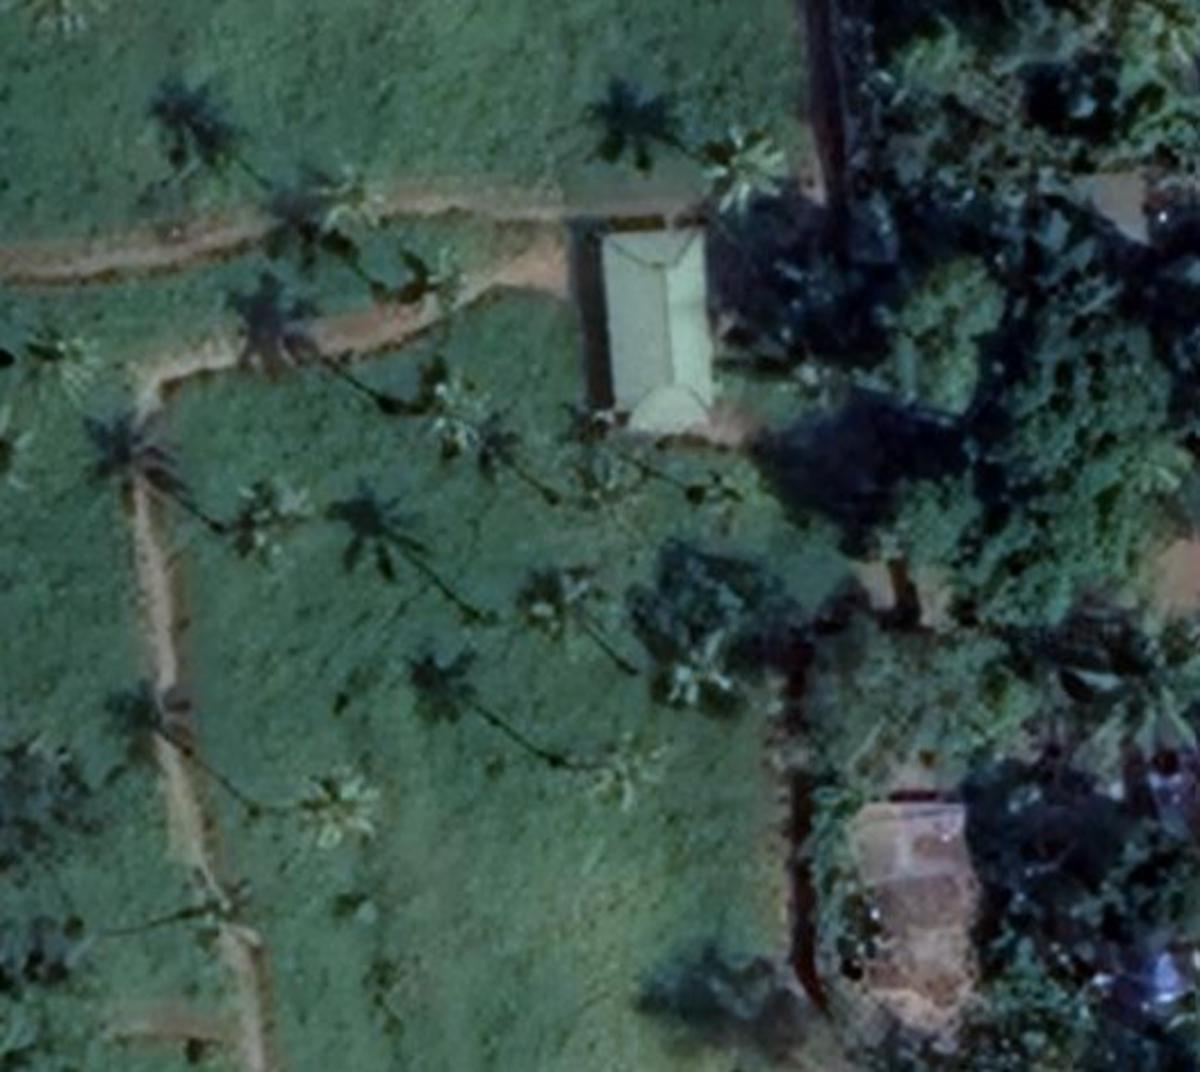coconut: (302, 753, 428, 876), (569, 721, 699, 814), (218, 477, 314, 582), (18, 327, 120, 416), (305, 166, 416, 238), (648, 623, 733, 710), (708, 129, 803, 207), (412, 250, 494, 339), (416, 370, 510, 448), (519, 564, 601, 639)
